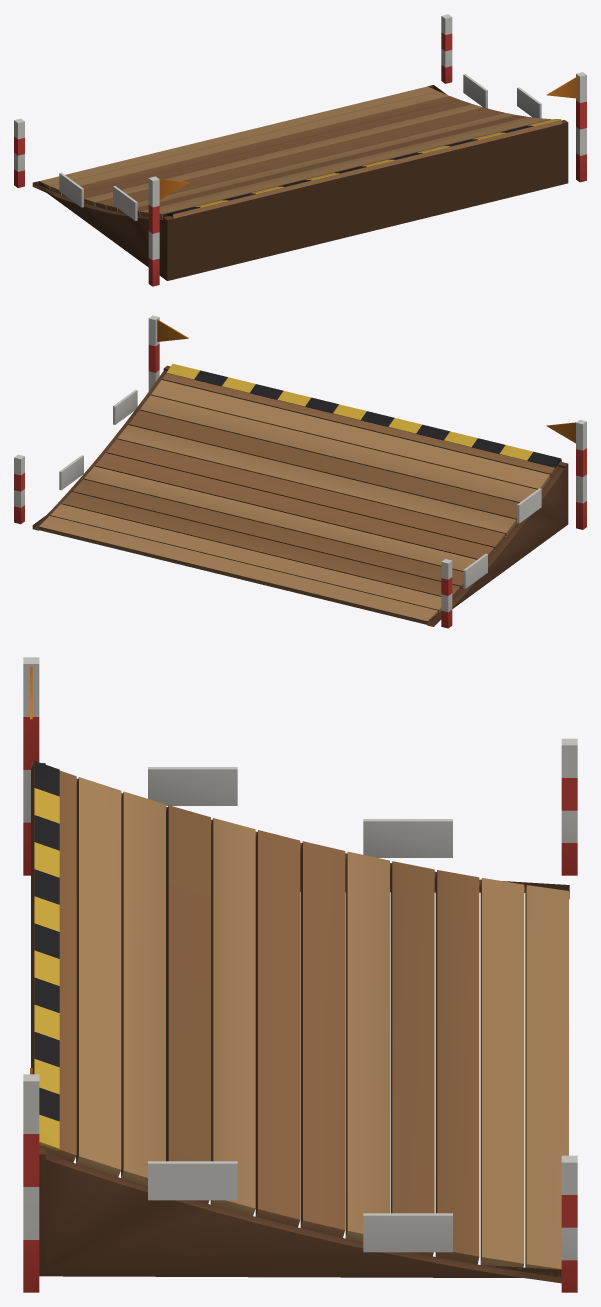
File: prop.ramp.glb
The picture shows the model from 3 angles, top to bottom: view 1: azimuth 30°, elevation 25°; view 2: azimuth 150°, elevation 25°; view 3: azimuth 270°, elevation 25°; orthographic projection. The views are drawn at different scales.
Parts seen in each view (by area): view 1: ramp; view 2: ramp; view 3: ramp.
Boxes of the visible parts, left/top/right/bottom form: ramp: left=14, top=14, right=586, bottom=286; ramp: left=14, top=315, right=586, bottom=628; ramp: left=23, top=657, right=577, bottom=1292.
Bounding box in the file's own units: 11.18 × 2.7 × 6.18.
